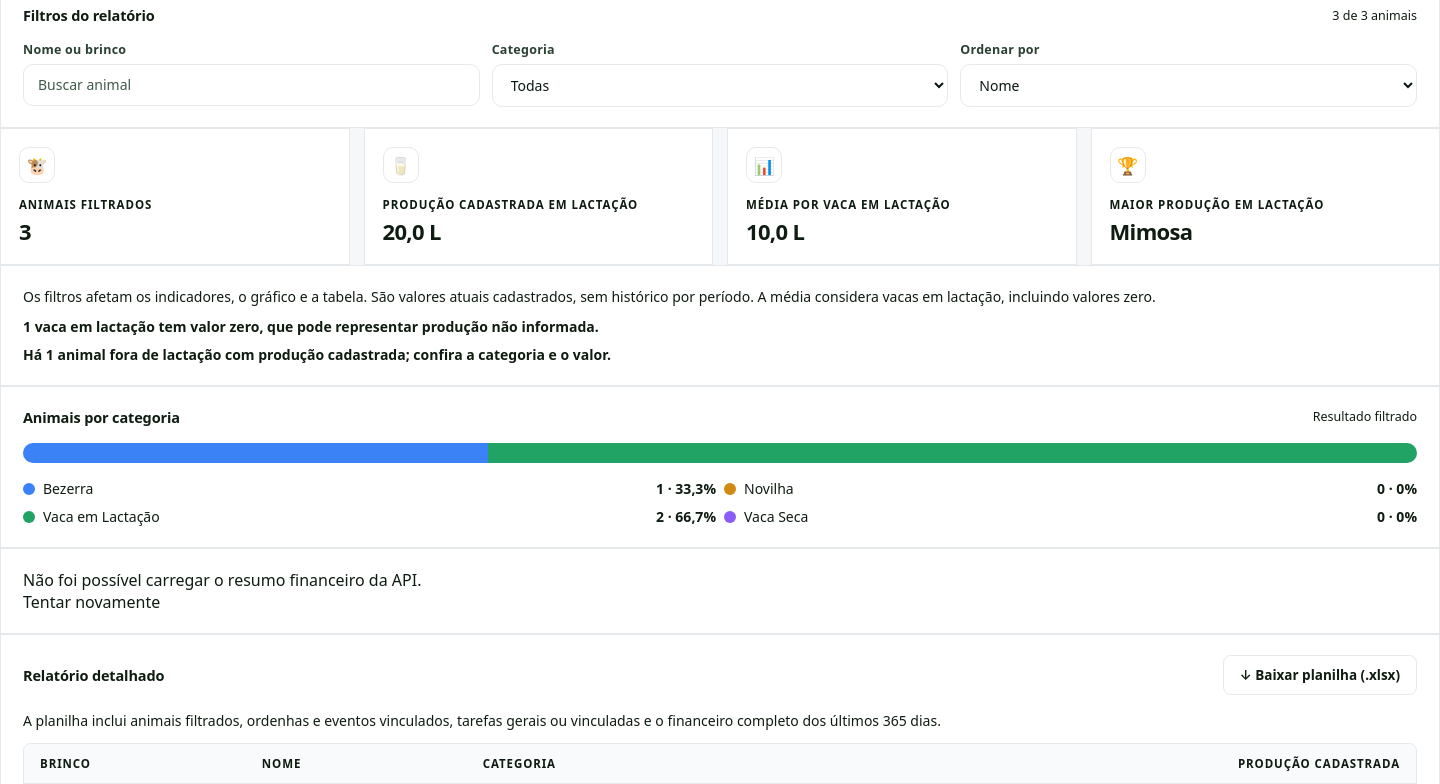
Test: aplica filtros aos indicadores e à tabela e permite limpá-los
The image size is (1440, 784).
Select "Bezerra" in the dropdown labelled "Categoria": (720, 86) [492,64,948,107]
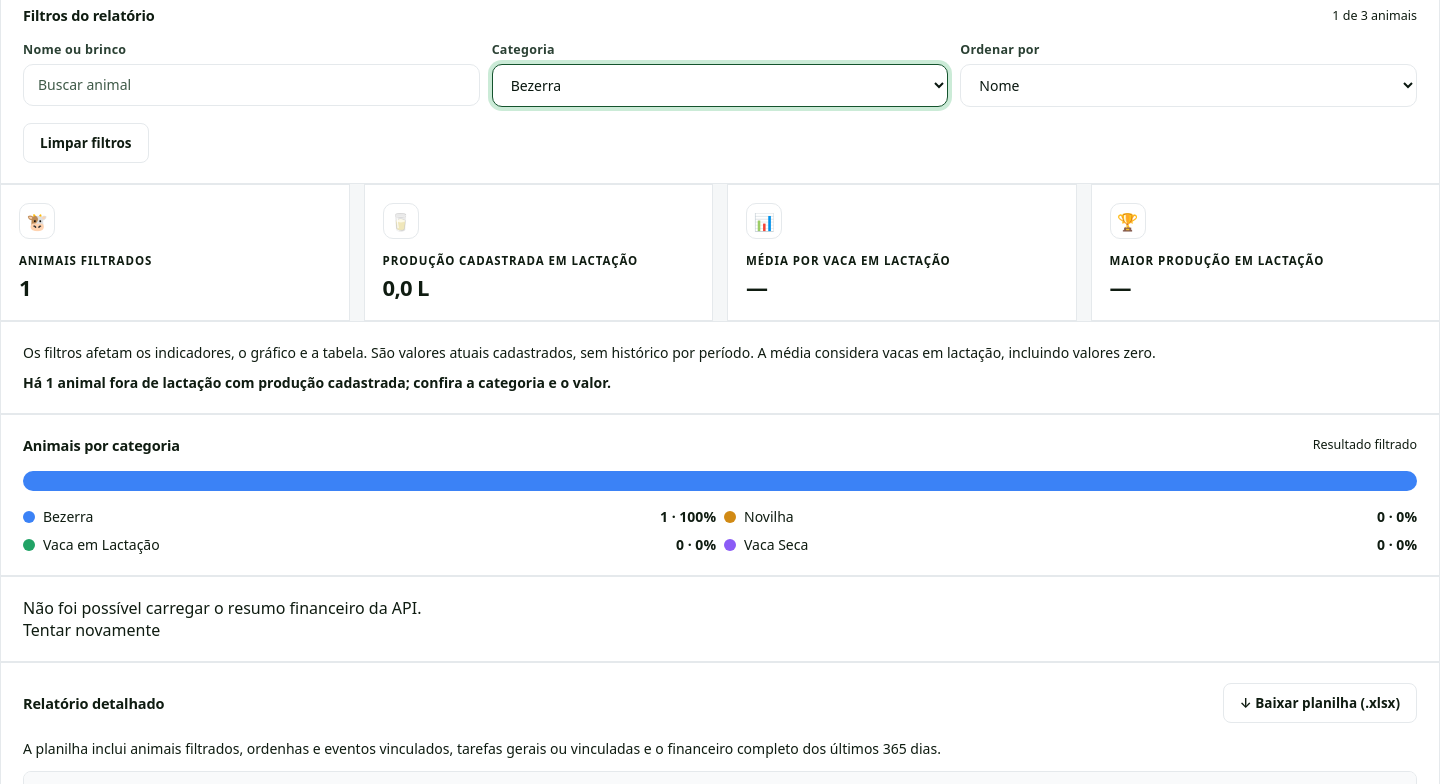
Expected: the text "fora de lactação com produção cadastrada" is shown, [58,373,406,392]
Now the text "1 de 3 animais" is shown, box [1332,6,1417,24]
Now the text "Mimosa" is gone
Click the button "Limpar filtros": (86, 143) [23,123,149,163]
(page scrolled)
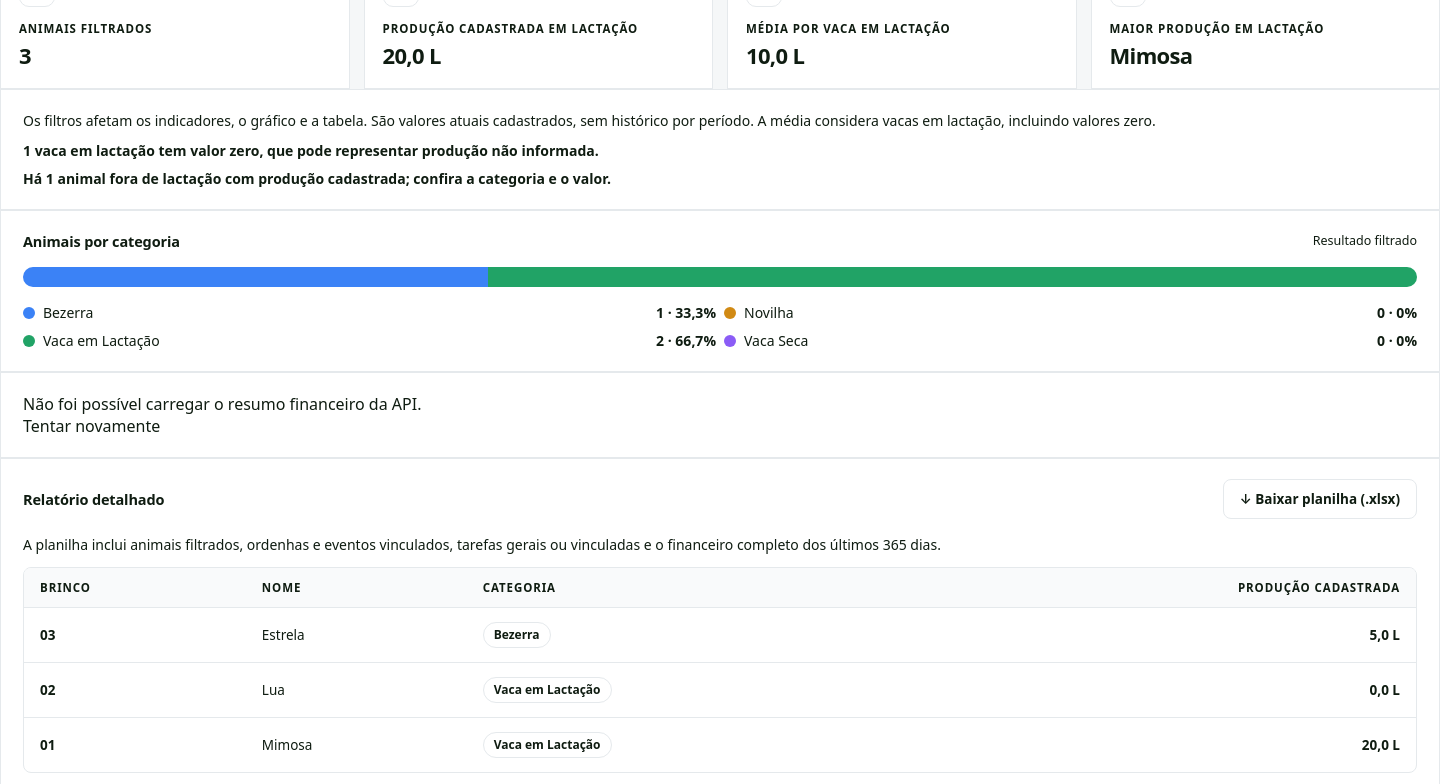
Now the text "Mimosa" is shown, box [246,717,467,772]
